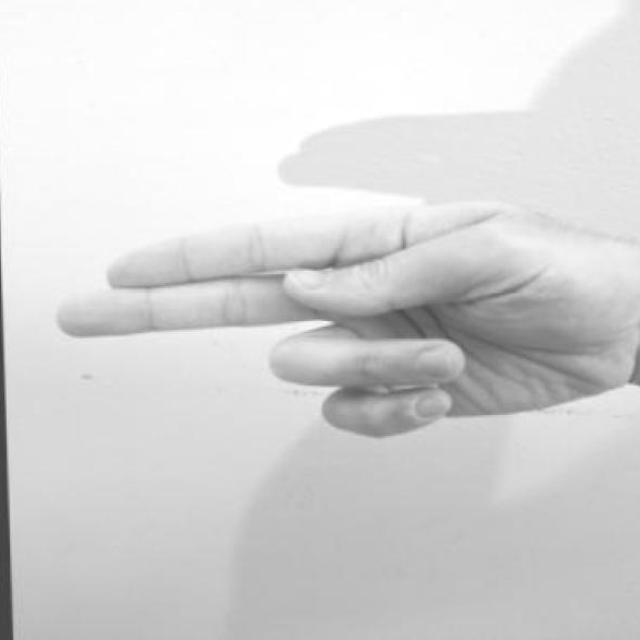H: (37, 174, 640, 451)
